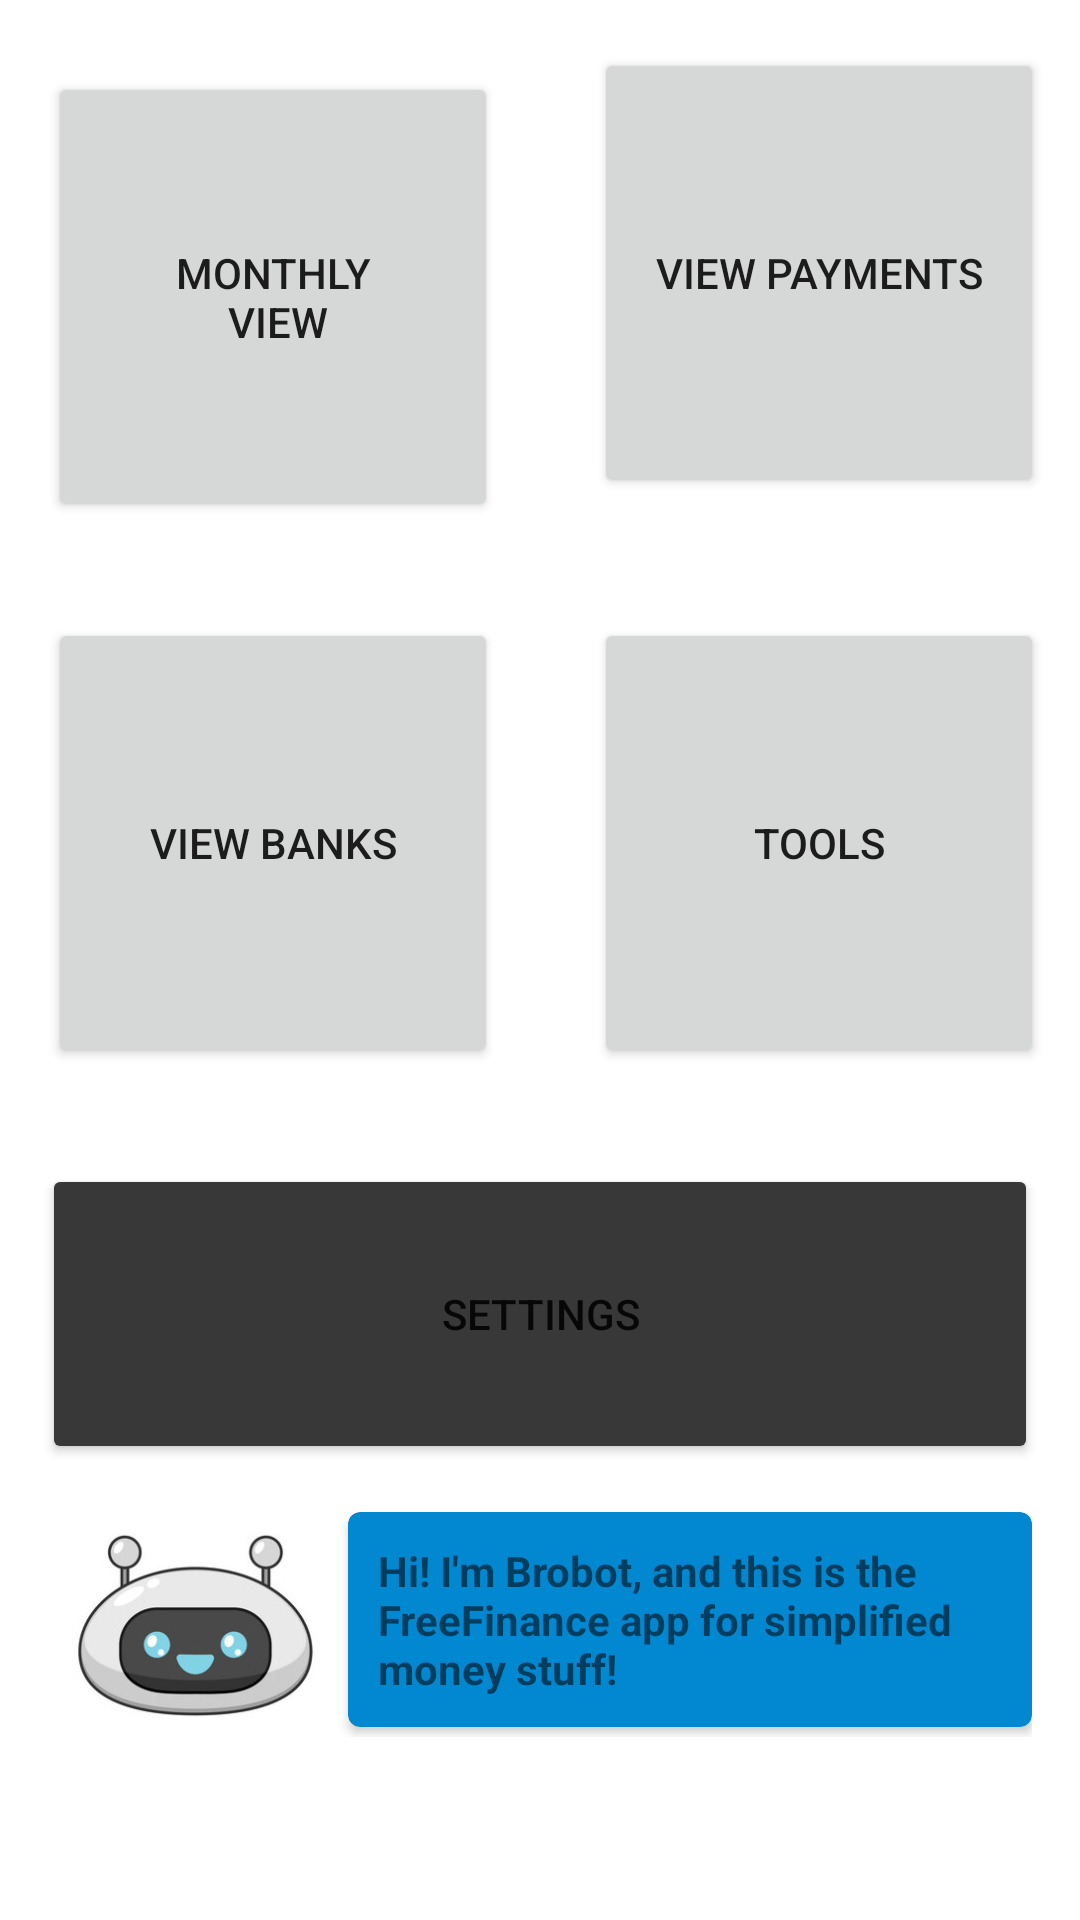

Icon bounding boxes for this 1080 x 1920 phone screenshot, format region(x1, y1, x2, y2):
brobot happy mouth open: region(78, 1535, 313, 1716)
